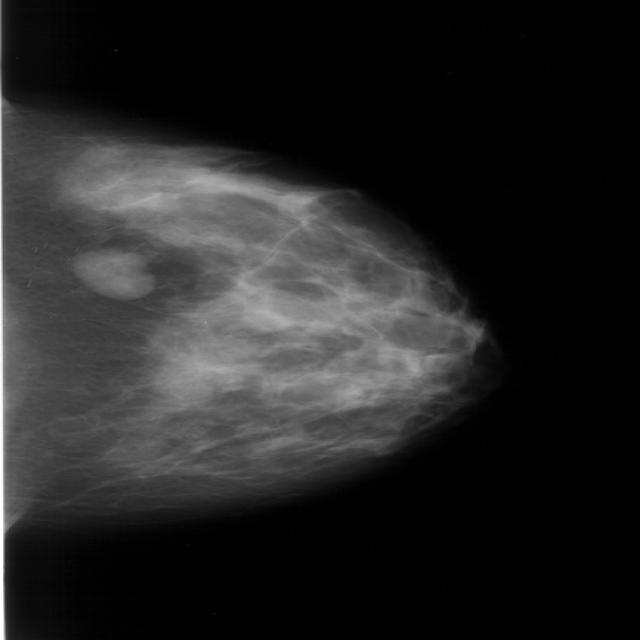tumour: (68, 247, 155, 300)
